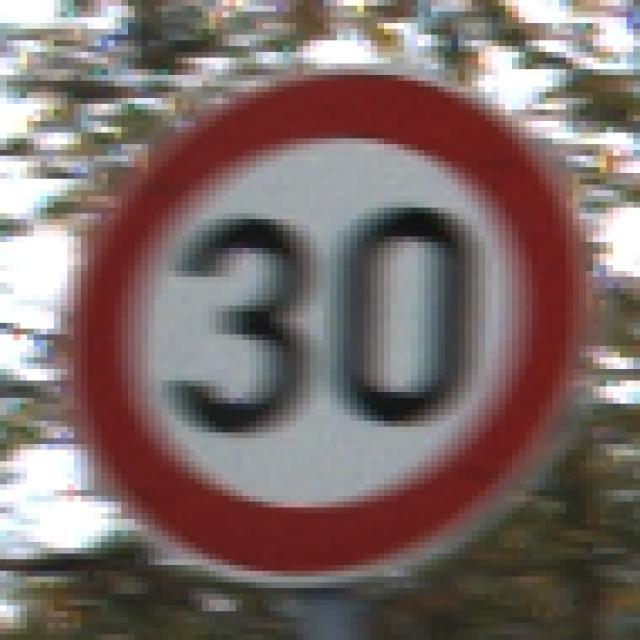Speed Limit -30-: (57, 54, 583, 586)
